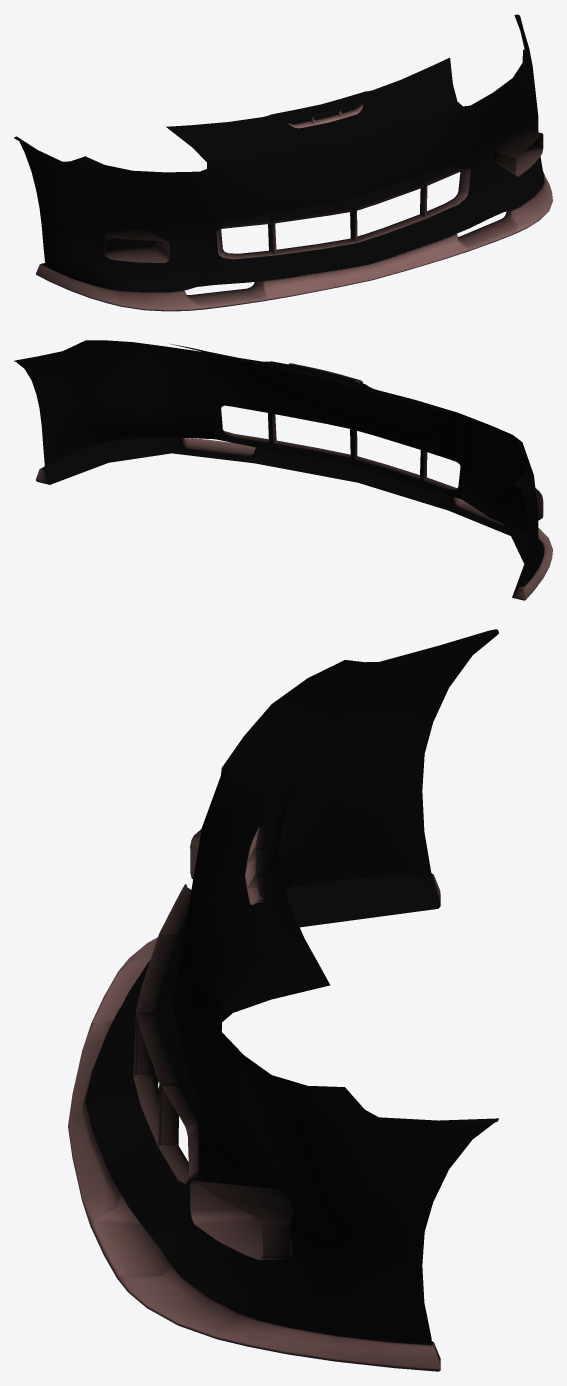
Rendered from Zr1_FB_01_Trim.fbx.
3 views of the same model, one above another, from view 1: azimuth 30°, elevation 25°; view 2: azimuth 150°, elevation 25°; view 3: azimuth 270°, elevation 25° (orthographic). The views are drawn at different scales.
Visible parts, largest first — view 1: Zr1_FB_01_Trim; view 2: Zr1_FB_01_Trim; view 3: Zr1_FB_01_Trim.
Part boxes in pixels (bbox=[...]): Zr1_FB_01_Trim: bbox=[14, 14, 552, 311]; Zr1_FB_01_Trim: bbox=[14, 340, 552, 600]; Zr1_FB_01_Trim: bbox=[68, 629, 498, 1371].
Size of the model in its own units: 187 by 50.84 by 69.05.
